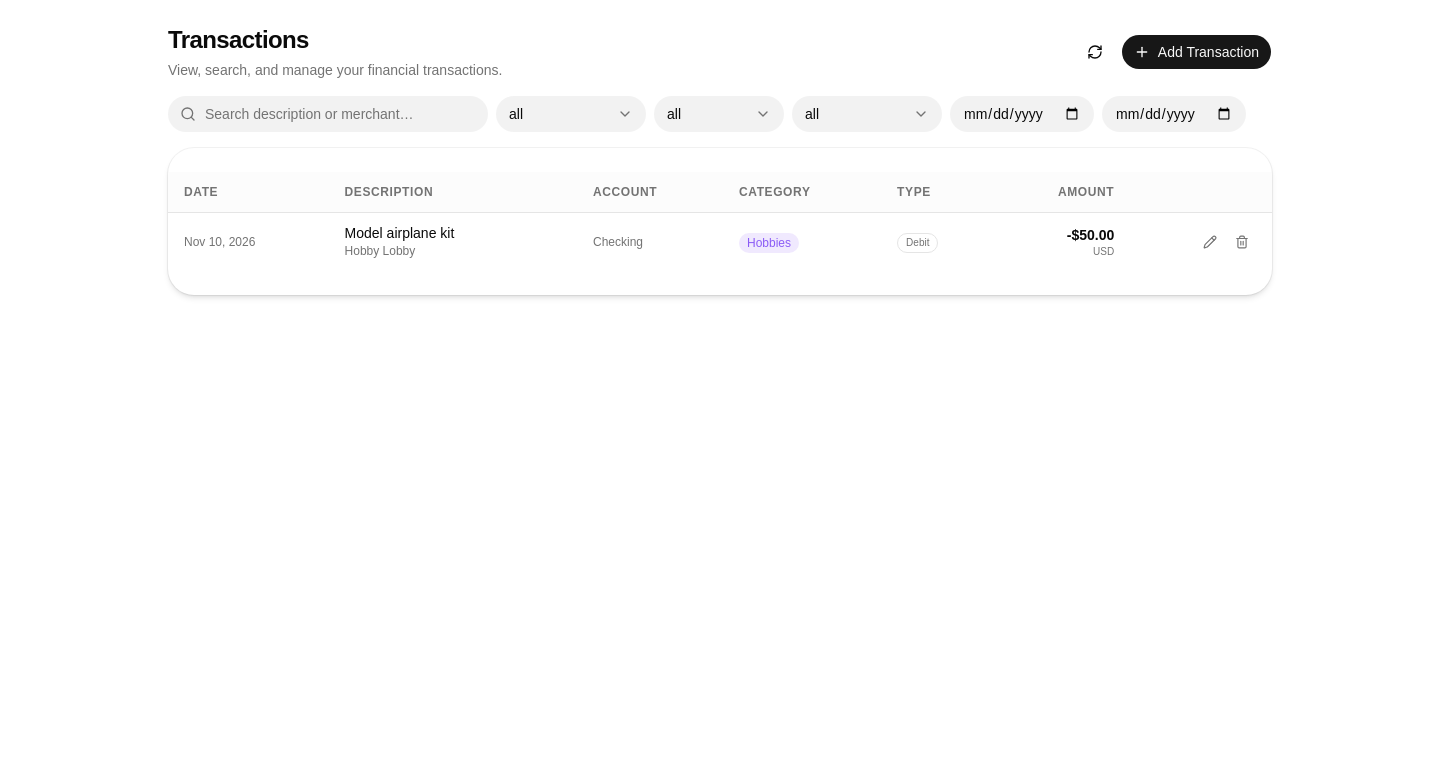
Test: CategoriesPage › 13. integrates custom categories into transaction display and form selectors
Check: the text "Hobbies" is shown, box [739,233,799,253]
Check: the text "Model airplane kit" is shown, box [345,225,454,241]
// Add transaction sheet includes custom category in select options
Click the button with test id "add-transaction-btn". click: point(1196, 52)
box: [1121,34,1272,70]
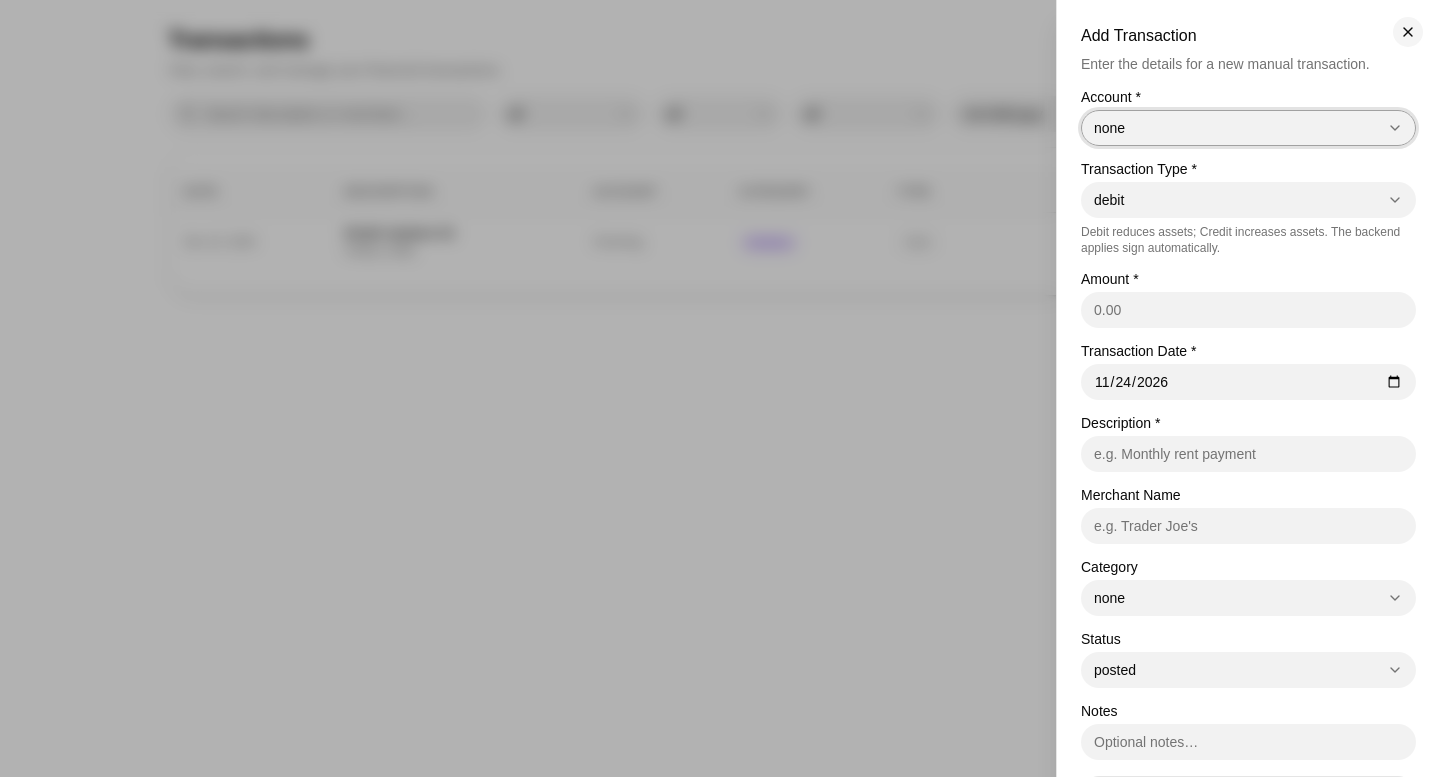
Check: the form with test id "transaction-form" is shown, box [1057,90,1439,768]
Check: the dropdown with test id "tx-category-select" is shown, box [1081,580,1416,616]
